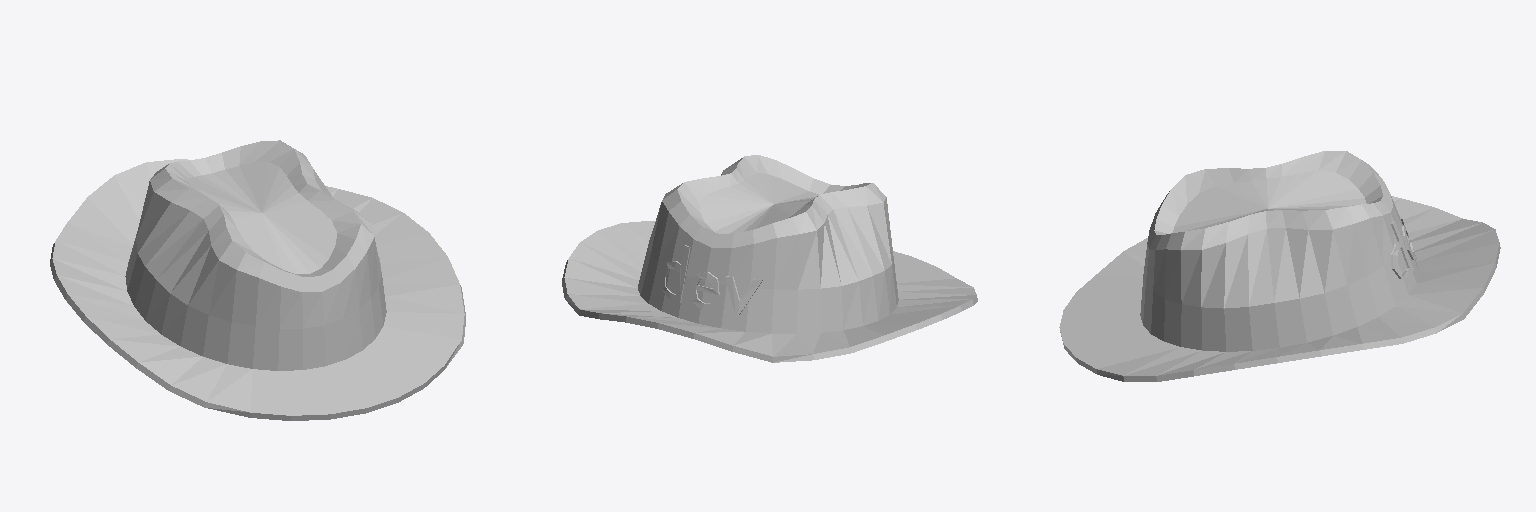
The model's file is cowboyhat_basic_dev.sgm.obj.
3 views of the same model, side by side, from view 1: azimuth 30°, elevation 25°; view 2: azimuth 150°, elevation 25°; view 3: azimuth 270°, elevation 25° (orthographic).
Bounding box in the file's own units: 0.6292 × 0.267 × 0.6917.